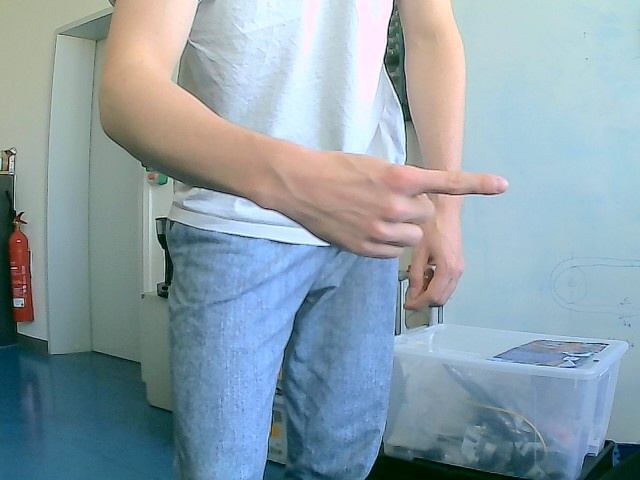left: (284, 148, 509, 261)
